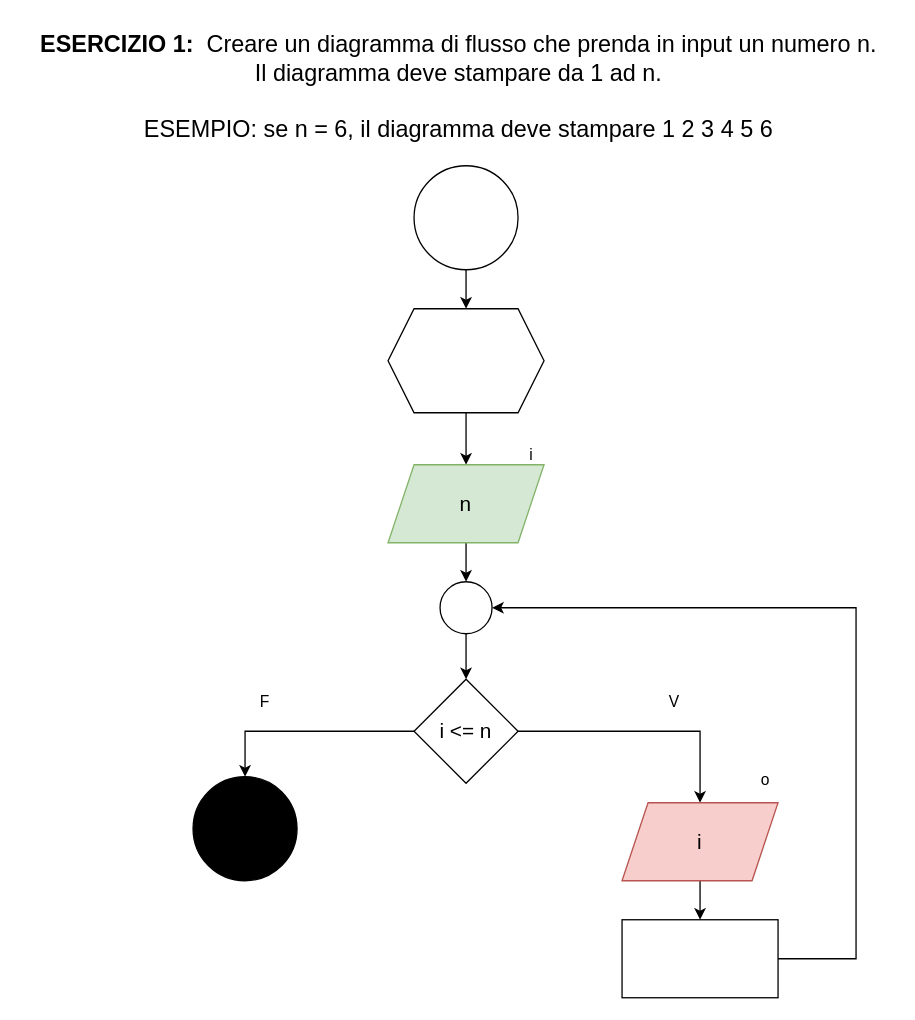
Image size: 915x1020. Some labels were removed from this diagram. The shapes that lost their labels are listed below. From the top down, each one's centre as x and y in pixels, then its label:
point (465, 360): n, i = 1
point (699, 958): i = i + 1
